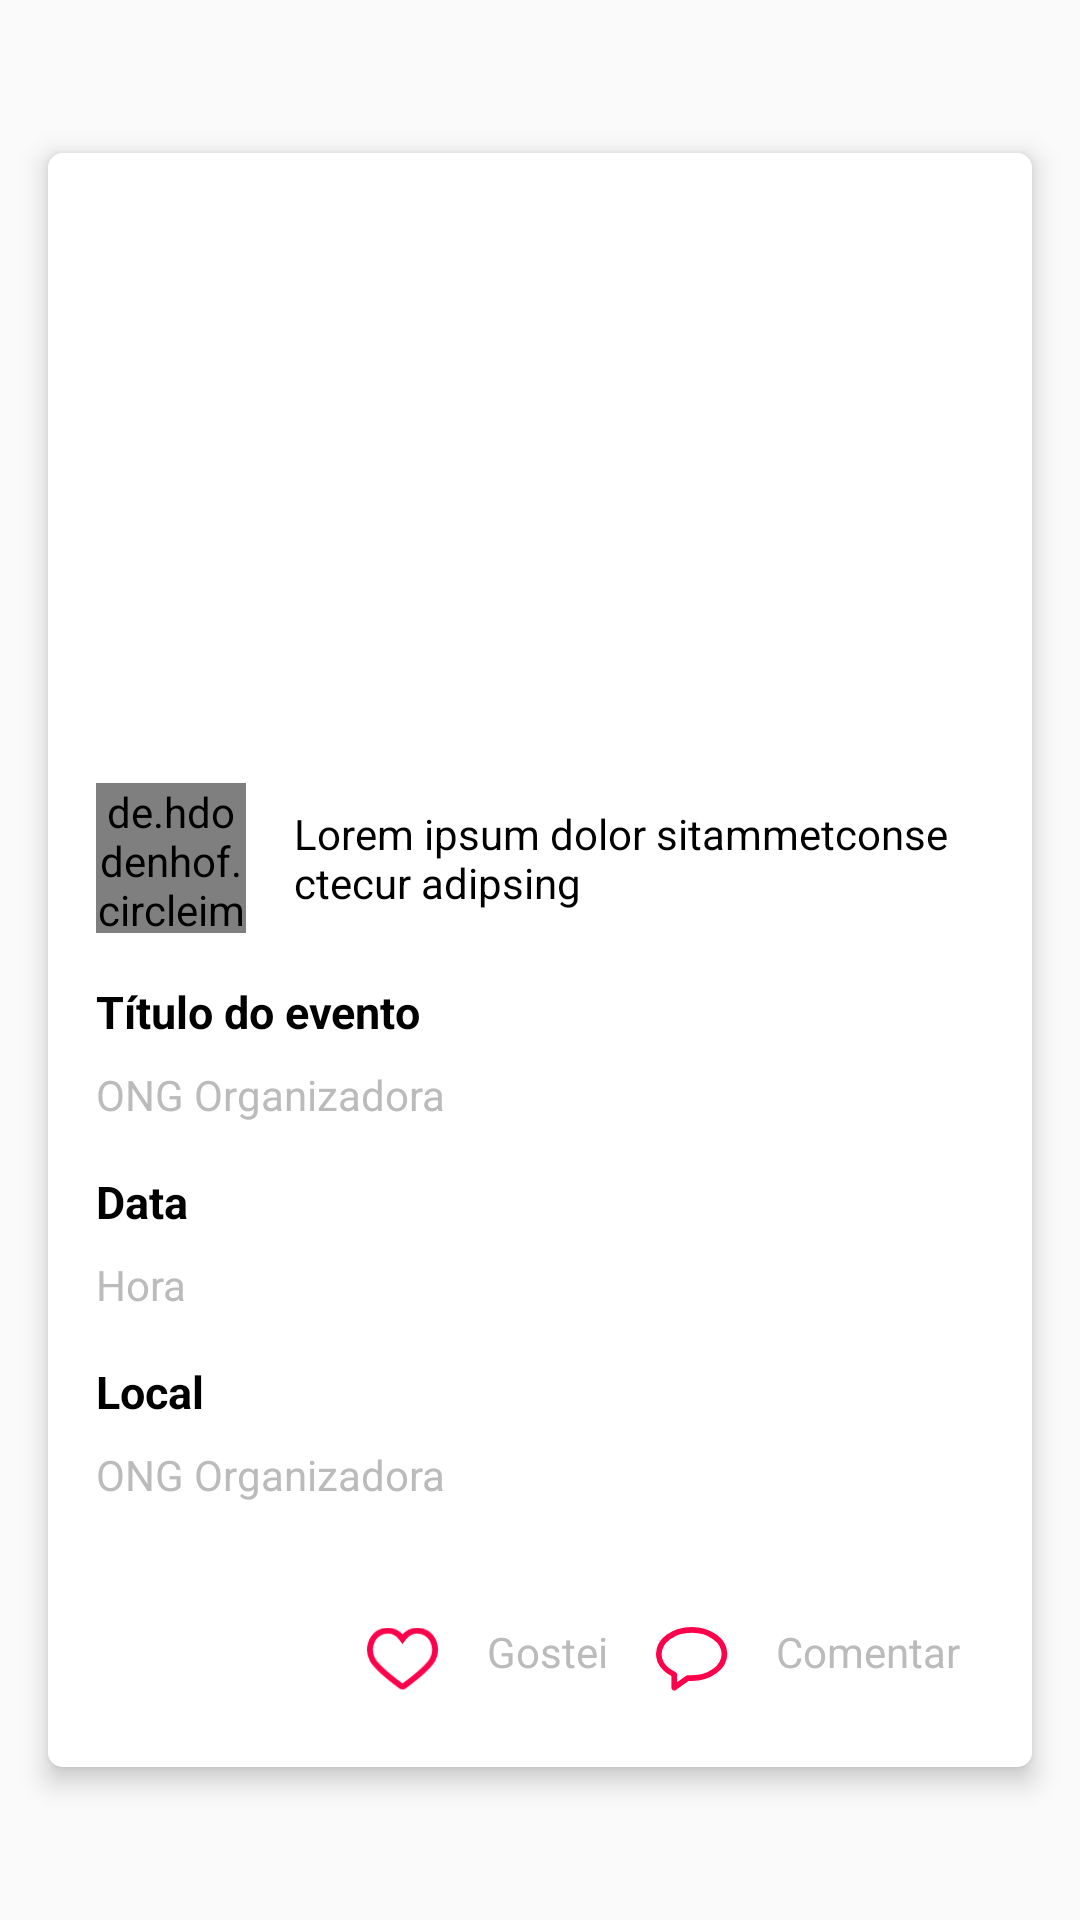

Where icons sit on this 1080×1920 app screen, as (x1, y1, x2, y2):
comment: (656, 1627, 728, 1691)
like: (367, 1628, 438, 1690)
